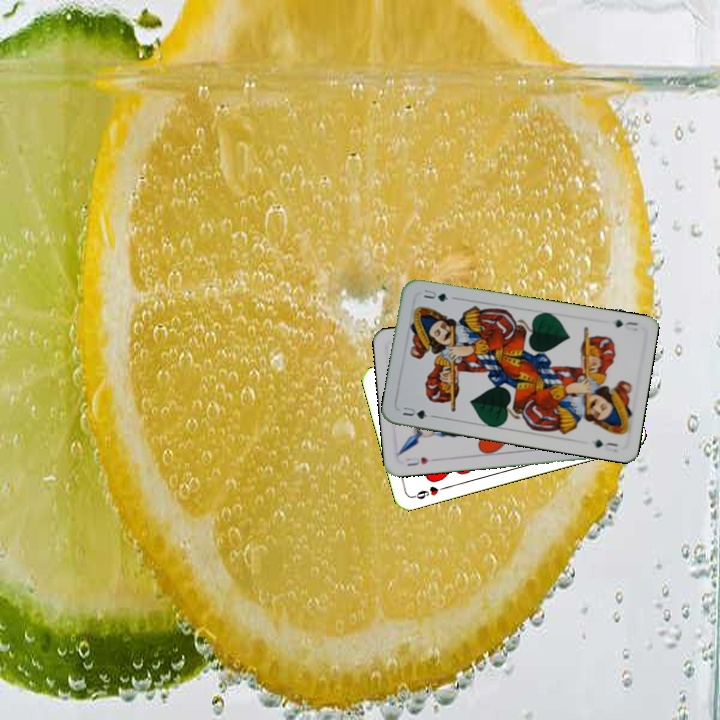GU: (399, 403, 430, 422), (611, 316, 641, 334)
H9: (409, 482, 448, 502)
HU: (402, 453, 431, 468)
